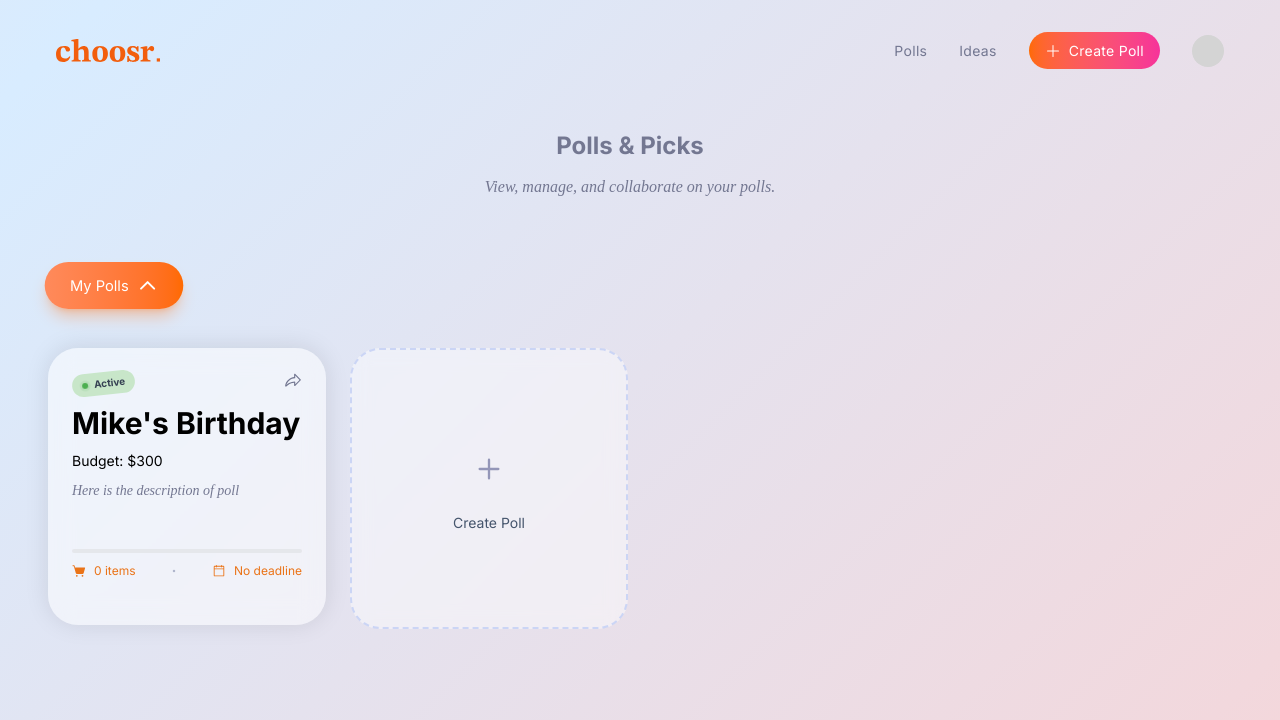
Poll Page › shows validation errors on too short input
This screenshot has width=1280, height=720.
Click the heading "Mike's Birthday". click: (187, 423)
box: [72,405,302,441]
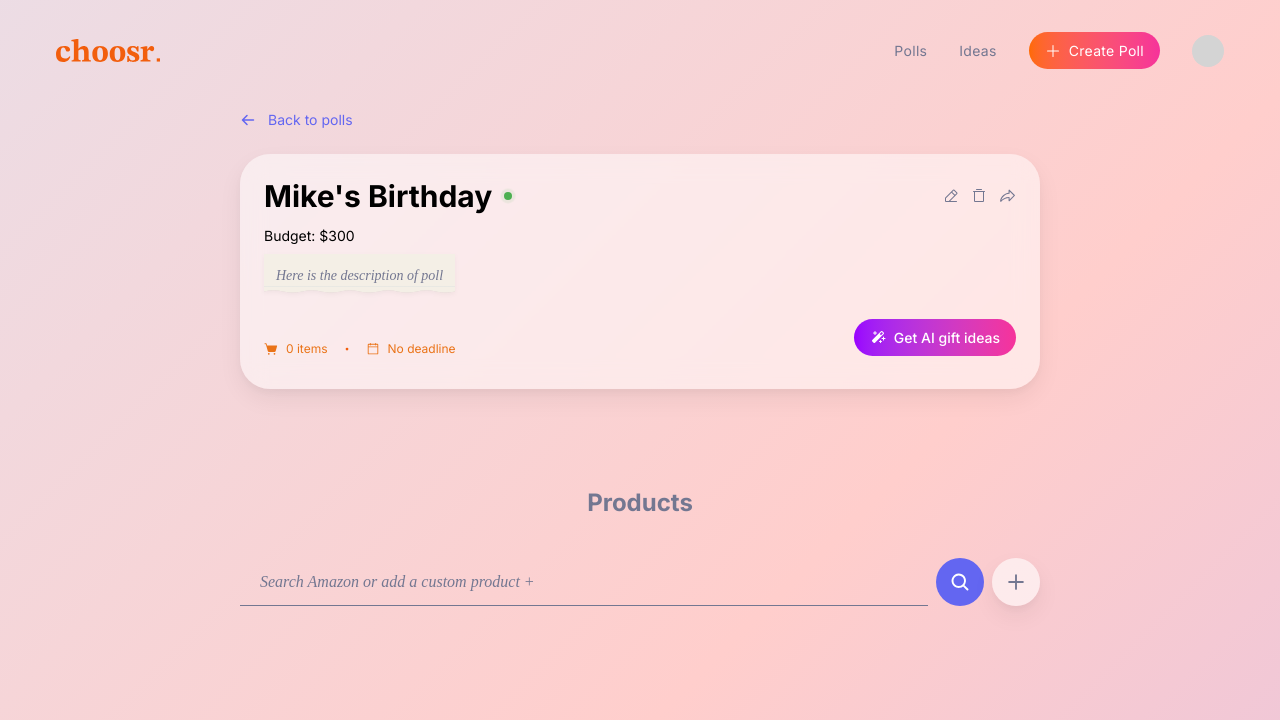
Click the icon with test id "edit-icon". click: (951, 196)
box: [943,188,959,204]
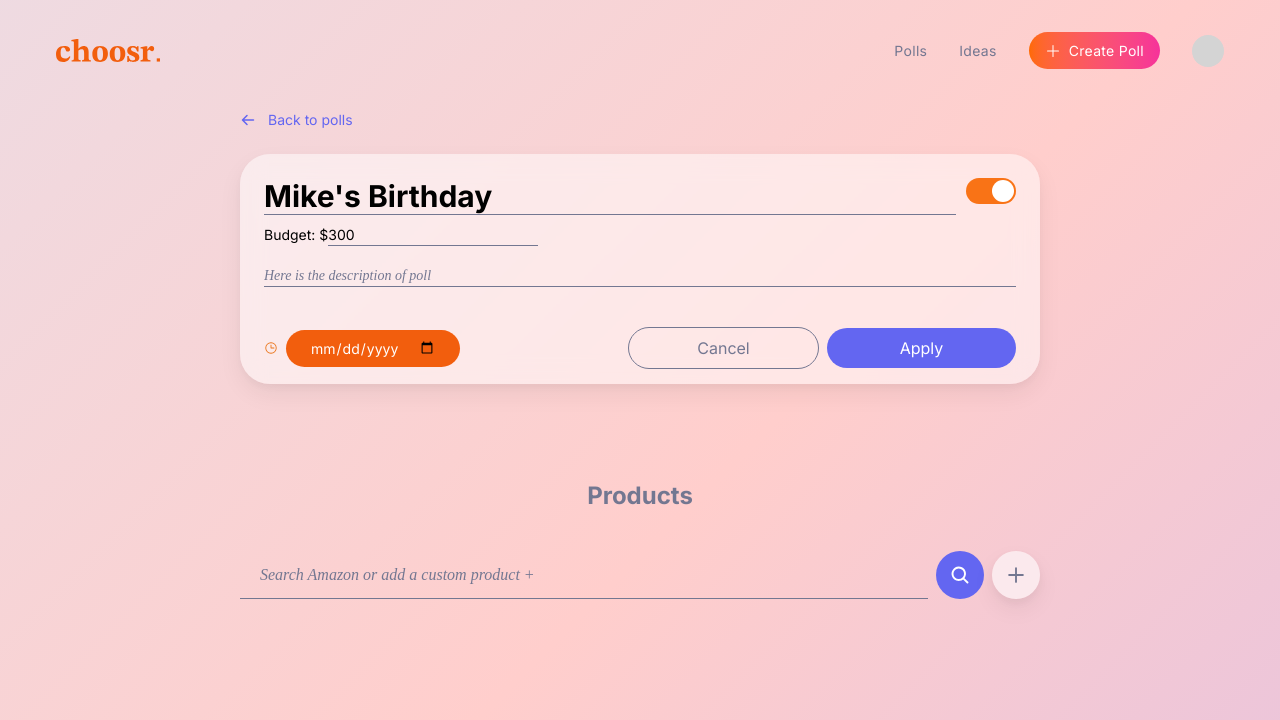
Replace the text in the 1st field named "title" with "M". click: (610, 197)
box: [264,178,956,215]
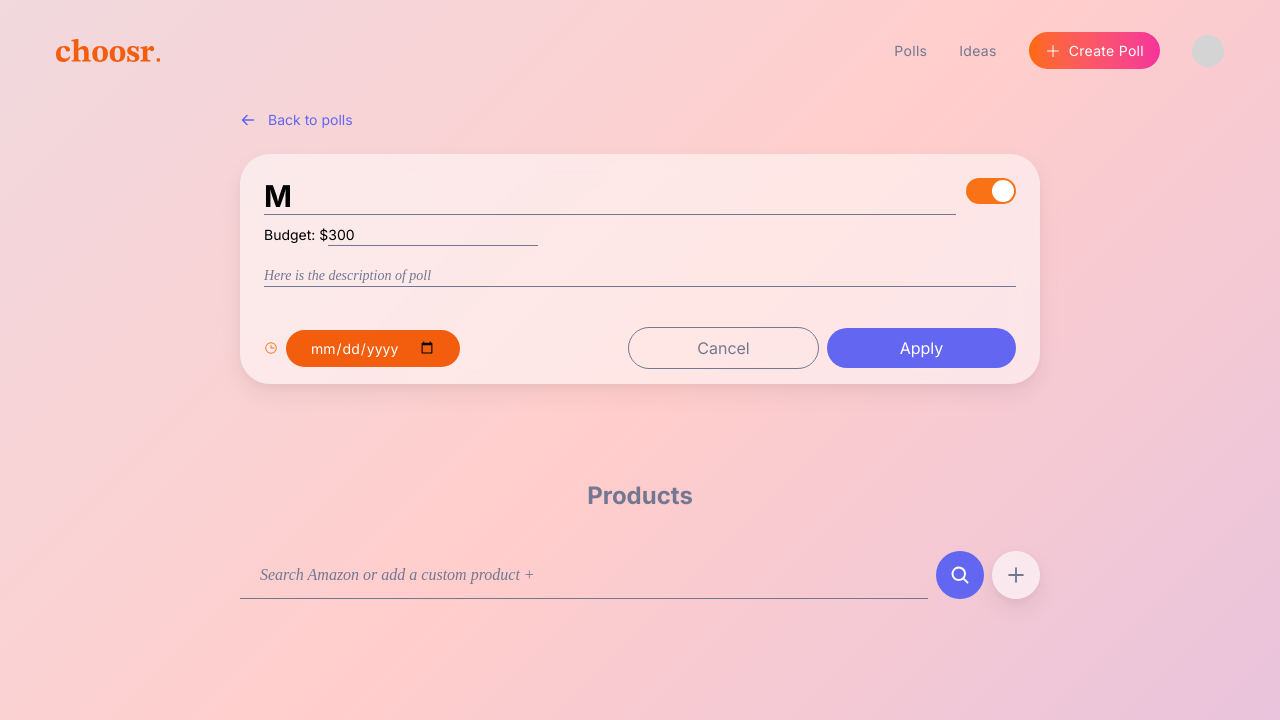
Click the button "Apply". click: (922, 348)
box: [827,328,1016,368]
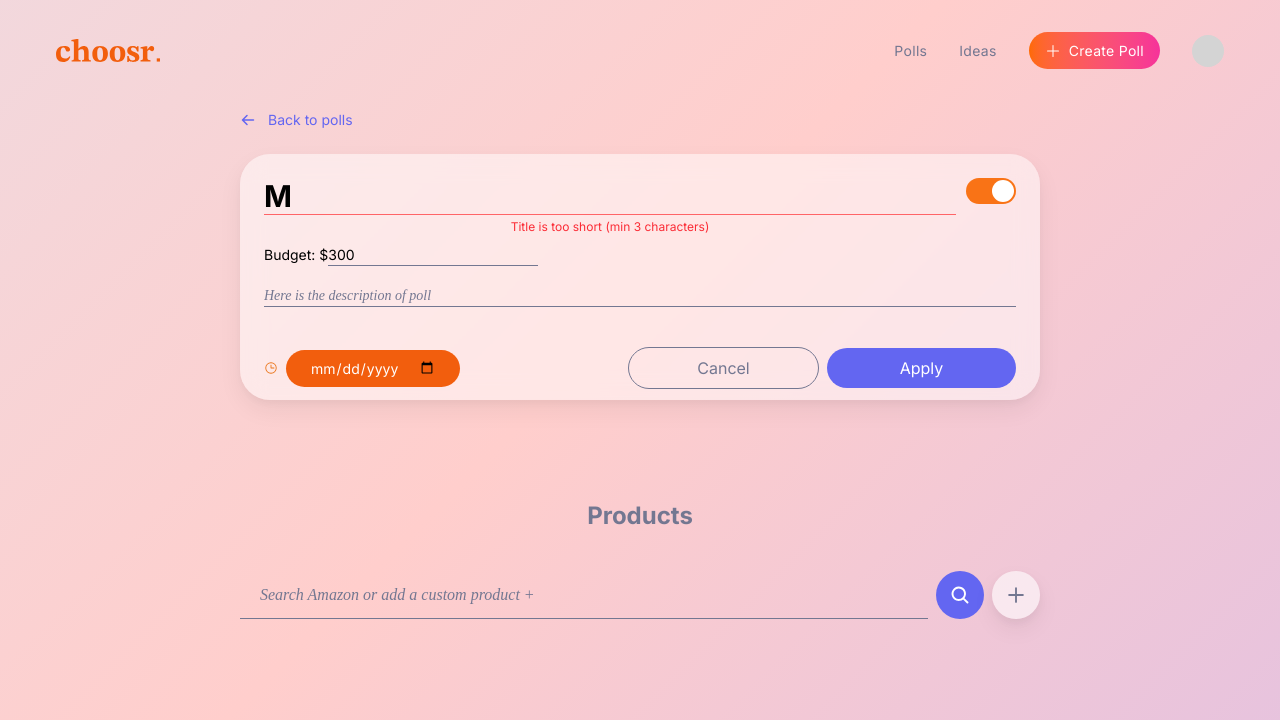
Result: the text "Title is too short (min 3 characters)" is shown at [511,219,709,234]
